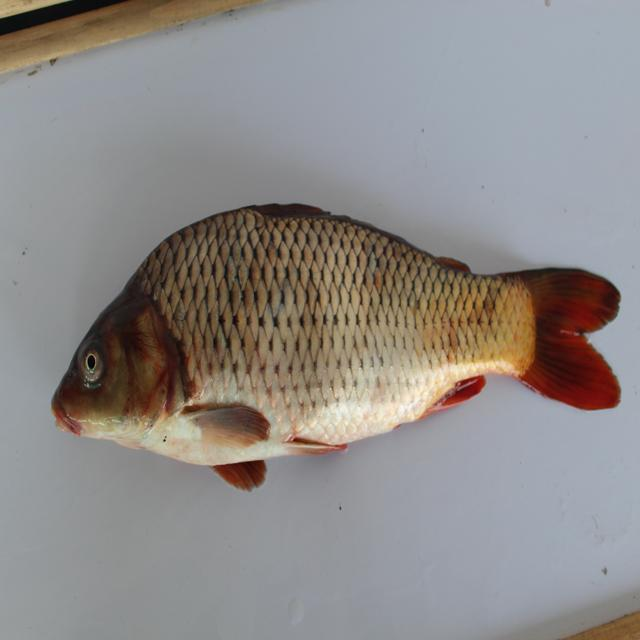CommonCarp: (46, 185, 632, 496)
